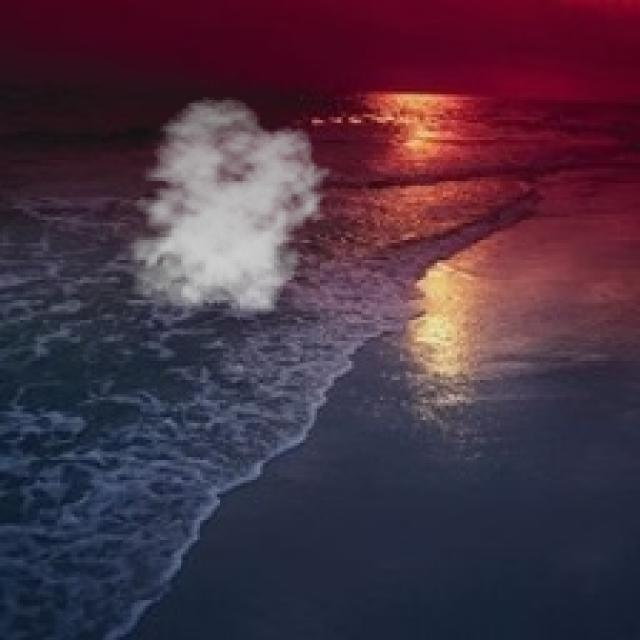smoke: (117, 97, 332, 323)
